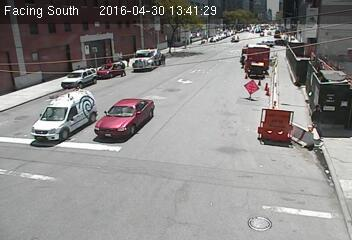neg: (110, 83, 150, 136), (203, 107, 241, 157), (245, 36, 277, 79), (258, 111, 284, 146), (69, 154, 95, 189), (209, 62, 234, 95), (46, 39, 71, 72), (286, 168, 310, 200), (237, 170, 258, 198), (37, 109, 58, 137), (133, 164, 154, 192), (175, 42, 193, 66)
pos: (110, 57, 126, 78), (123, 54, 133, 66)
